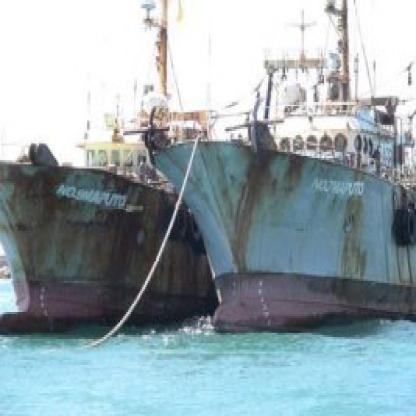fish-b: (145, 0, 414, 354), (0, 0, 222, 348)
